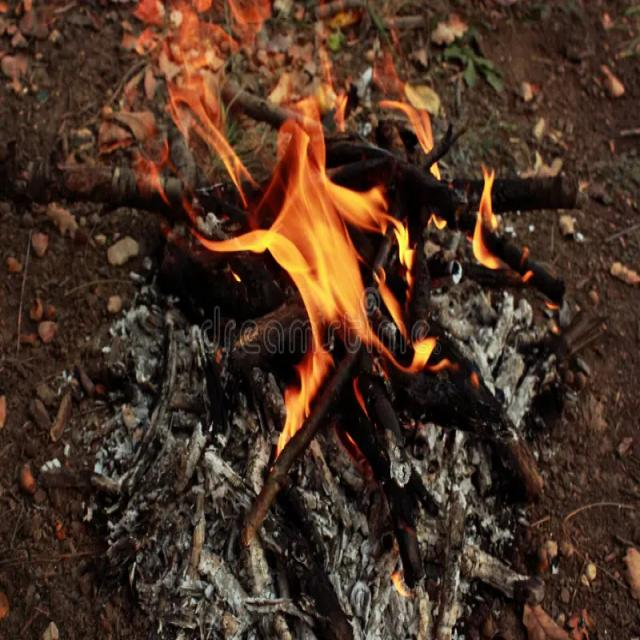fire: (191, 97, 437, 460), (167, 73, 264, 209), (377, 99, 441, 182), (472, 161, 503, 268), (387, 215, 416, 313), (372, 50, 406, 97)
